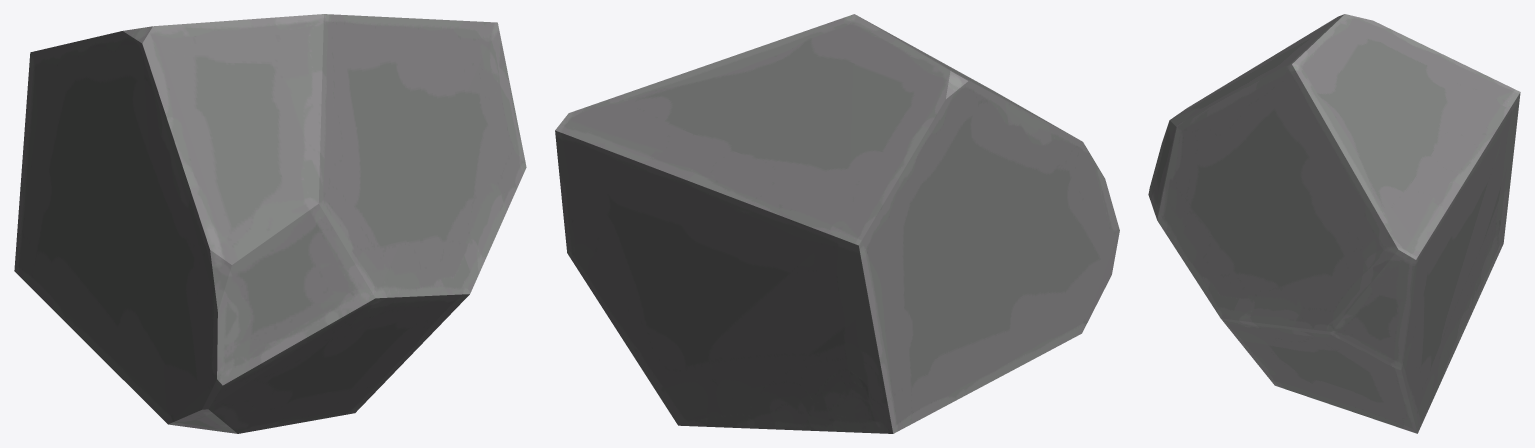
Rendered from Rock.fbx.
The picture shows the model from 3 angles, left to right: view 1: azimuth 30°, elevation 25°; view 2: azimuth 150°, elevation 25°; view 3: azimuth 270°, elevation 25°; orthographic projection. The views are drawn at different scales.
Visible parts, largest first — view 1: node_id4; view 2: node_id4; view 3: node_id4.
Boxes of the visible parts, box(x1,y1,x2,y2) form: node_id4: box(14, 14, 526, 433); node_id4: box(555, 14, 1119, 433); node_id4: box(1148, 14, 1520, 433).
Bounding box in the file's own units: 0.3518 × 0.3118 × 0.3217.
1 material, 1 textured.
